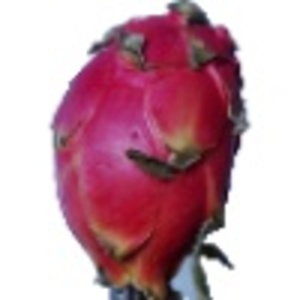pitaia: (50, 1, 250, 300)
